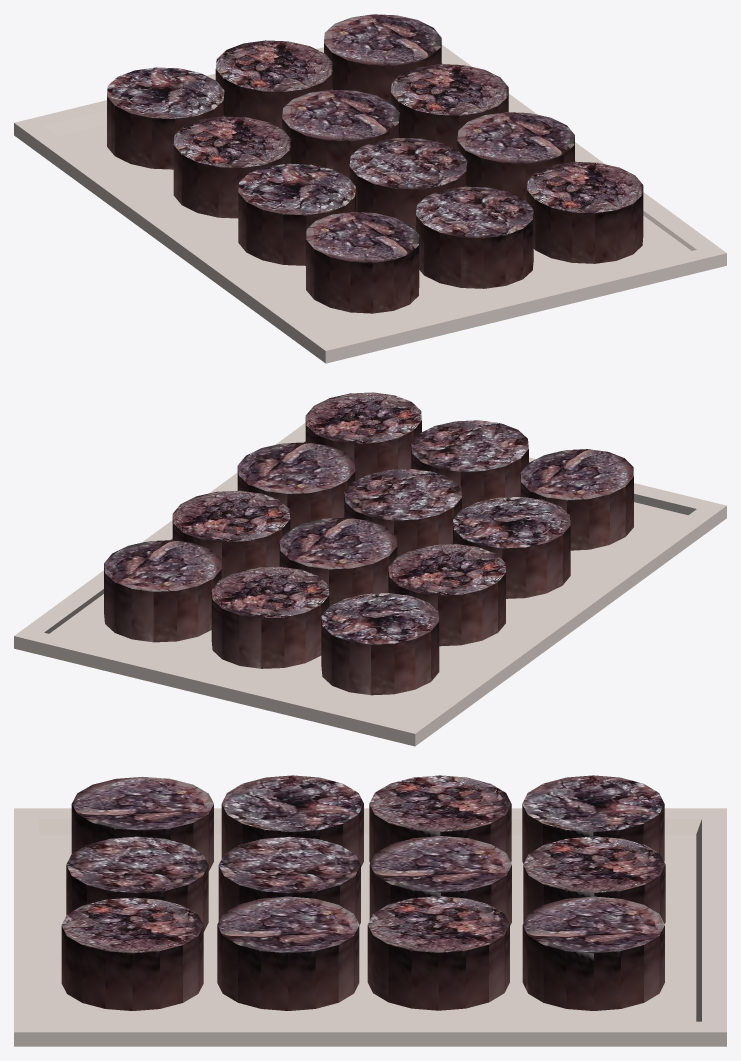
The model's file is Sundae.fbx.
3 renders of one model, top to bottom at view 1: azimuth 30°, elevation 25°; view 2: azimuth 150°, elevation 25°; view 3: azimuth 270°, elevation 25°, orthographic. The views are drawn at different scales.
Visible parts, largest first — view 1: Dish, Sundae.010, Sundae.012, Sundae.001, Sundae.011, Sundae.007, Sundae.004, Sundae.009, Sundae.005, Sundae.003, Sundae.008, Sundae.002 (+1 smaller); view 2: Dish, Sundae.011, Sundae.005, Sundae.003, Sundae.004, Sundae.007, Sundae.001, Sundae.010, Sundae.002, Sundae.006, Sundae.012, Sundae.009 (+1 smaller); view 3: Dish, Sundae.006, Sundae.008, Sundae.003, Sundae.012, Sundae.007, Sundae.010, Sundae.011, Sundae.004, Sundae.001, Sundae.002, Sundae.005 (+1 smaller).
Part boxes in pixels (bbox=[...]): Dish: bbox=[14, 44, 726, 363]; Sundae.010: bbox=[416, 186, 533, 288]; Sundae.012: bbox=[527, 162, 643, 263]; Sundae.001: bbox=[306, 212, 419, 313]; Sundae.011: bbox=[107, 67, 224, 169]; Sundae.007: bbox=[238, 163, 355, 265]; Sundae.004: bbox=[173, 116, 291, 218]; Sundae.009: bbox=[349, 138, 467, 230]; Sundae.005: bbox=[215, 40, 333, 128]; Sundae.003: bbox=[324, 14, 441, 102]; Sundae.008: bbox=[457, 112, 574, 200]; Sundae.002: bbox=[282, 89, 399, 178]; Dish: bbox=[14, 423, 726, 746]; Sundae.011: bbox=[321, 593, 439, 695]; Sundae.005: bbox=[211, 566, 329, 668]; Sundae.003: bbox=[104, 540, 221, 642]; Sundae.004: bbox=[388, 544, 505, 646]; Sundae.007: bbox=[453, 497, 570, 598]; Sundae.001: bbox=[520, 449, 633, 550]; Sundae.010: bbox=[411, 420, 528, 509]; Sundae.002: bbox=[279, 517, 397, 606]; Sundae.006: bbox=[172, 490, 290, 578]; Sundae.012: bbox=[305, 392, 421, 480]; Sundae.009: bbox=[344, 469, 461, 556]; Dish: bbox=[14, 808, 726, 1046]; Sundae.006: bbox=[367, 896, 509, 1010]; Sundae.008: bbox=[217, 896, 359, 1010]; Sundae.003: bbox=[522, 896, 664, 1010]; Sundae.012: bbox=[61, 897, 203, 1010]; Sundae.007: bbox=[221, 775, 363, 866]; Sundae.010: bbox=[66, 836, 208, 931]; Sundae.011: bbox=[522, 775, 664, 863]; Sundae.004: bbox=[369, 775, 511, 862]; Sundae.001: bbox=[71, 776, 213, 871]; Sundae.002: bbox=[369, 836, 511, 925]; Sundae.005: bbox=[523, 836, 665, 923].
Bounding box in the file's own units: 61.94 × 10.15 × 83.39.
Materials: 2 (1 with a texture image).
